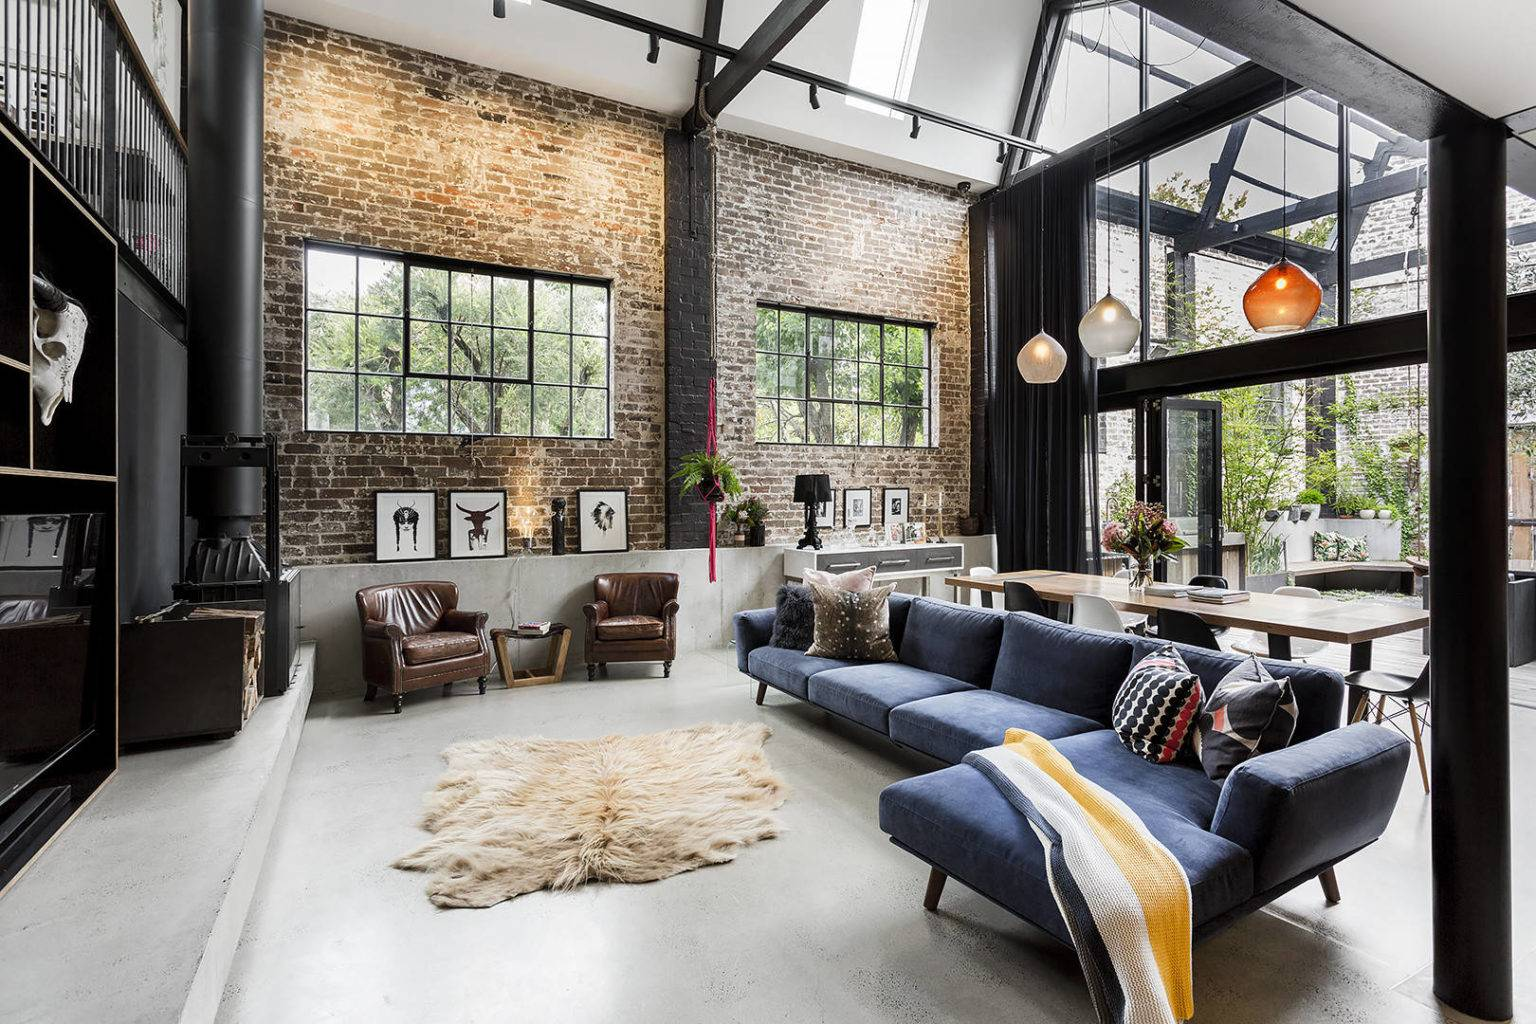chair: (357, 578, 495, 717), (583, 561, 682, 683)
dining table set: (943, 562, 1435, 773)
flower vase: (1099, 489, 1189, 593)
side table: (495, 621, 579, 691)
sofa: (731, 566, 1411, 975)
table lamp: (792, 461, 837, 554)
wall art: (368, 485, 440, 567), (448, 485, 509, 565), (575, 483, 632, 559)
